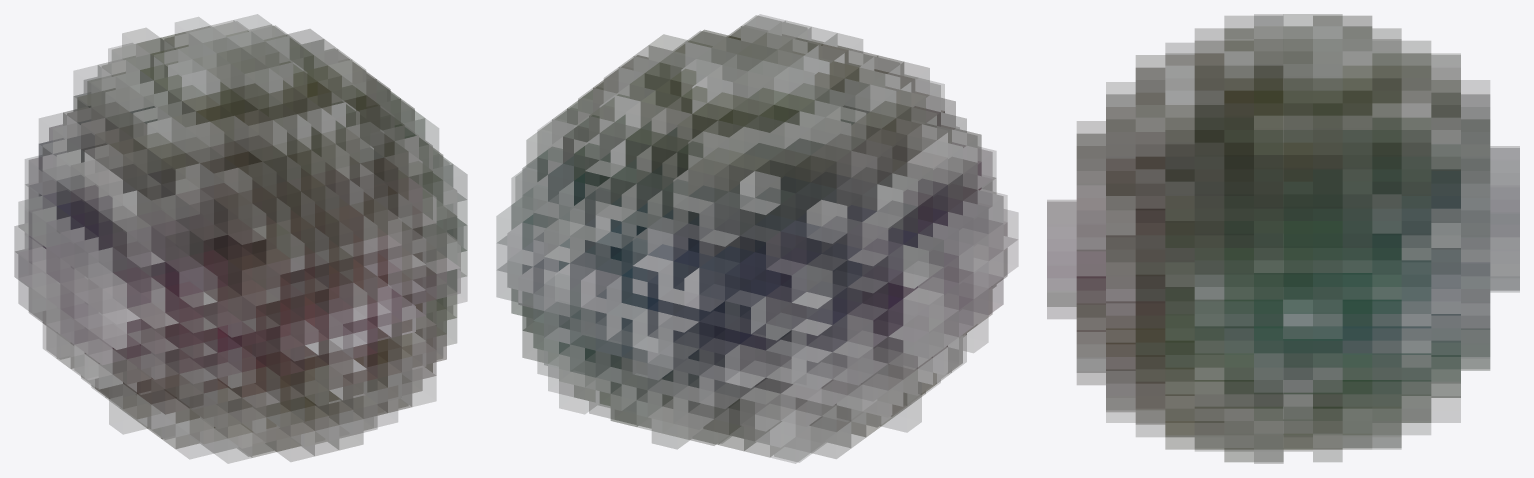
File: iter_30.obj
3 renders of one model, left to right at view 1: azimuth 30°, elevation 25°; view 2: azimuth 150°, elevation 25°; view 3: azimuth 270°, elevation 25°, orthographic. The views are drawn at different scales.
Parts seen in each view (by area): view 1: iter_30; view 2: iter_30; view 3: iter_30.
Boxes of the visible parts, x1,y1,x2,y2 form: iter_30: (14, 14, 467, 463); iter_30: (496, 14, 1018, 463); iter_30: (1047, 14, 1519, 463).
Size of the model in its own units: 1.6 by 1.4 by 1.6.
